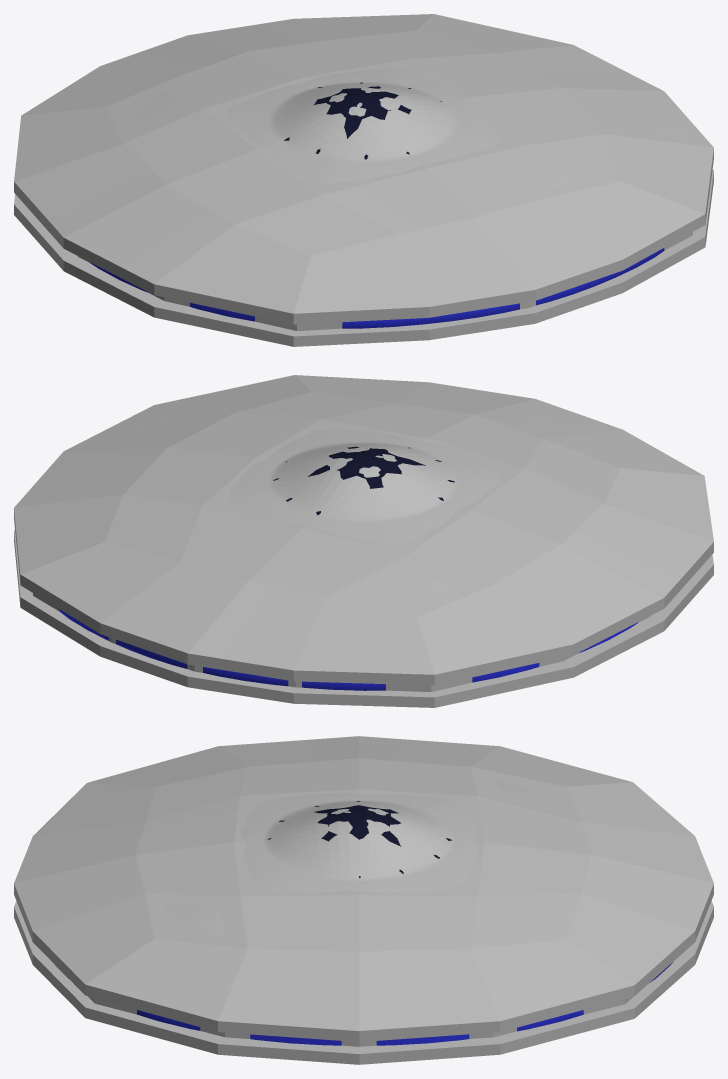
File: ufo.glb
The picture shows the model from 3 angles, top to bottom: view 1: azimuth 30°, elevation 25°; view 2: azimuth 150°, elevation 25°; view 3: azimuth 270°, elevation 25°; orthographic projection.
Visible parts, largest first — view 1: Cube.001, Cube.002, UFO 02; view 2: Cube.001, Cube.002, UFO 02; view 3: Cube.001, Cube.002, UFO 02.
Part boxes in pixels (left/top/right/bottom): Cube.001: left=14, top=14, right=713, bottom=346; Cube.002: left=27, top=23, right=696, bottom=333; UFO 02: left=89, top=82, right=664, bottom=328; Cube.001: left=14, top=375, right=713, bottom=707; Cube.002: left=96, top=403, right=700, bottom=696; UFO 02: left=59, top=446, right=638, bottom=690; Cube.001: left=14, top=736, right=713, bottom=1064; Cube.002: left=16, top=740, right=711, bottom=1059; UFO 02: left=55, top=801, right=672, bottom=1045.
Size of the model in its own units: 2 by 0.6283 by 2.
